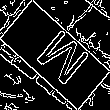M_SW: (23, 21, 87, 89)
